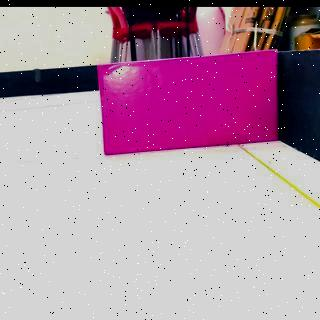xparking: (100, 64, 277, 144)
